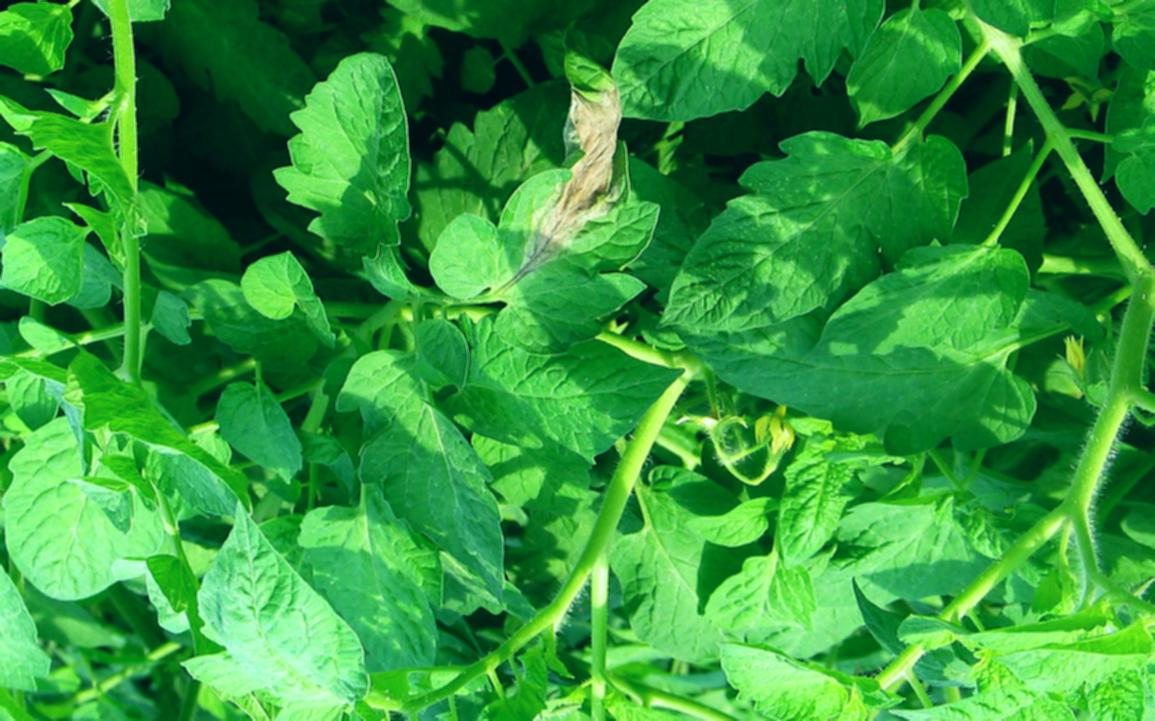Tomato leaf: (660, 96, 965, 344), (334, 317, 528, 619), (269, 42, 418, 287), (293, 451, 438, 702), (604, 0, 893, 110), (831, 220, 1021, 383), (11, 417, 157, 610), (839, 0, 969, 132), (705, 645, 873, 718)
Tomato leaf late blight: (441, 110, 656, 325)
